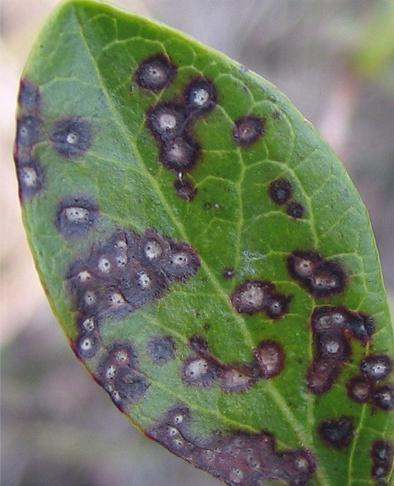Tomato Septoria leaf spot: (10, 3, 393, 481)
